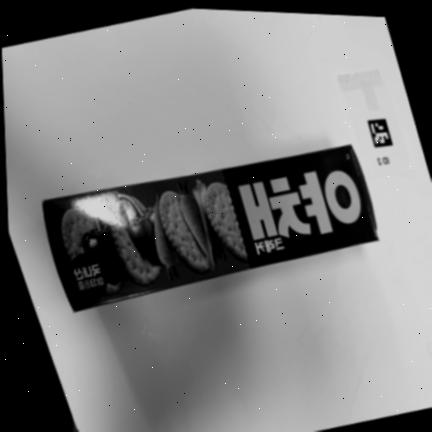cracker_vege: (43, 144, 377, 311)
